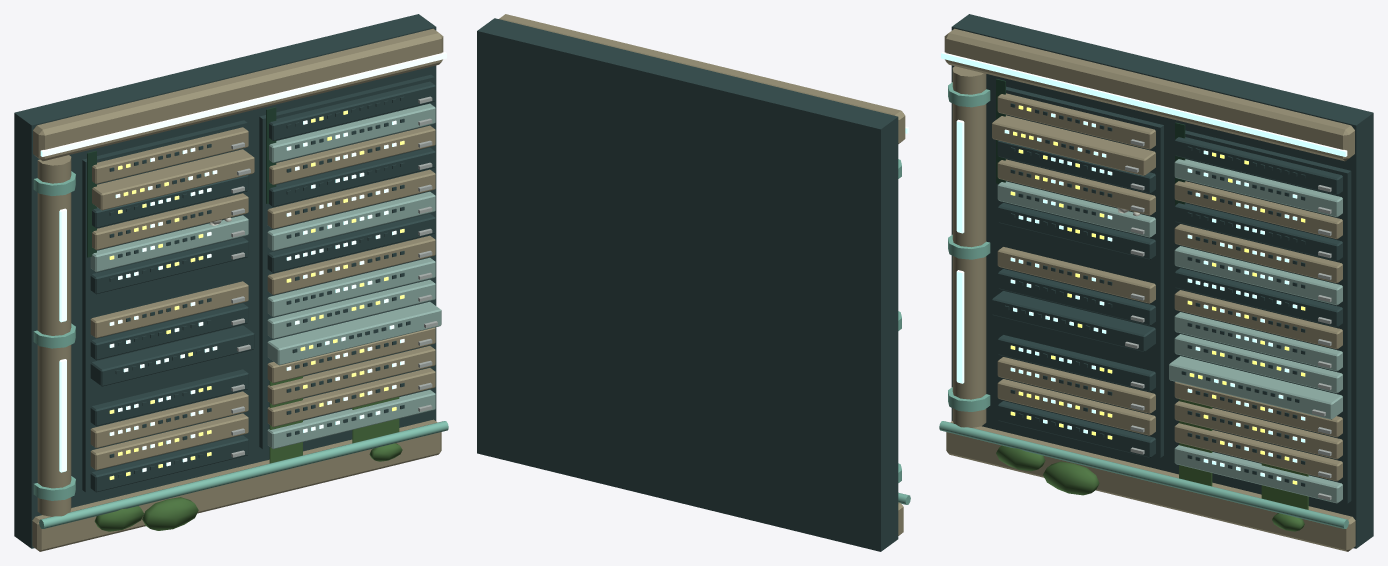
The model's file is wall_dr_rack.glb.
3 views of the same model, side by side, from view 1: azimuth 30°, elevation 25°; view 2: azimuth 150°, elevation 25°; view 3: azimuth 330°, elevation 25° (orthographic).
Parts seen in each view (by area): view 1: wall_dr_rack; view 2: wall_dr_rack; view 3: wall_dr_rack.
Boxes of the visible parts, left/top/right/bottom form: wall_dr_rack: left=14, top=14, right=448, bottom=551; wall_dr_rack: left=477, top=14, right=910, bottom=551; wall_dr_rack: left=939, top=14, right=1373, bottom=551.
Bounding box in the file's own units: 4 × 4.05 × 0.59.
